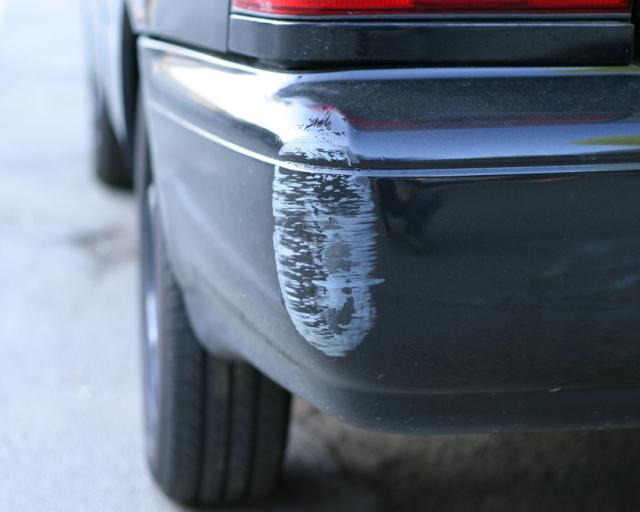scratch: (270, 105, 385, 359)
